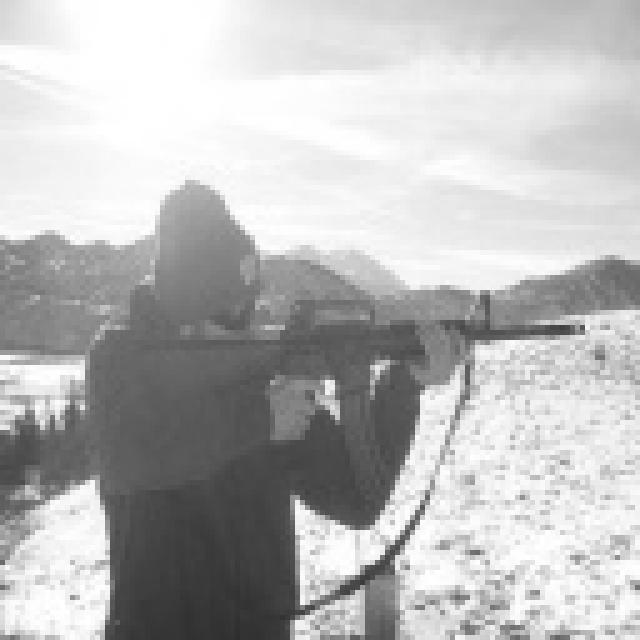Rifle: (133, 283, 598, 612)
